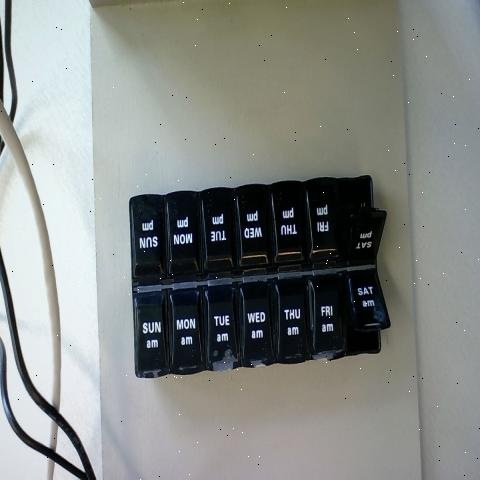FRI-am: (310, 280, 342, 358)
FRI-pm: (310, 188, 342, 260)
MON-am: (170, 289, 206, 369)
MON-pm: (172, 195, 205, 277)
Open: (344, 277, 391, 356), (345, 179, 386, 257)
PillBox: (118, 149, 401, 406)
SUN-am: (137, 294, 169, 376)
SUN-pm: (134, 197, 167, 284)
THU-am: (277, 280, 306, 364)
THU-pm: (276, 188, 308, 264)
TUE-am: (208, 286, 241, 366)
TUE-pm: (208, 192, 237, 274)
WED-am: (241, 280, 275, 364)
WED-pm: (241, 194, 273, 274)
